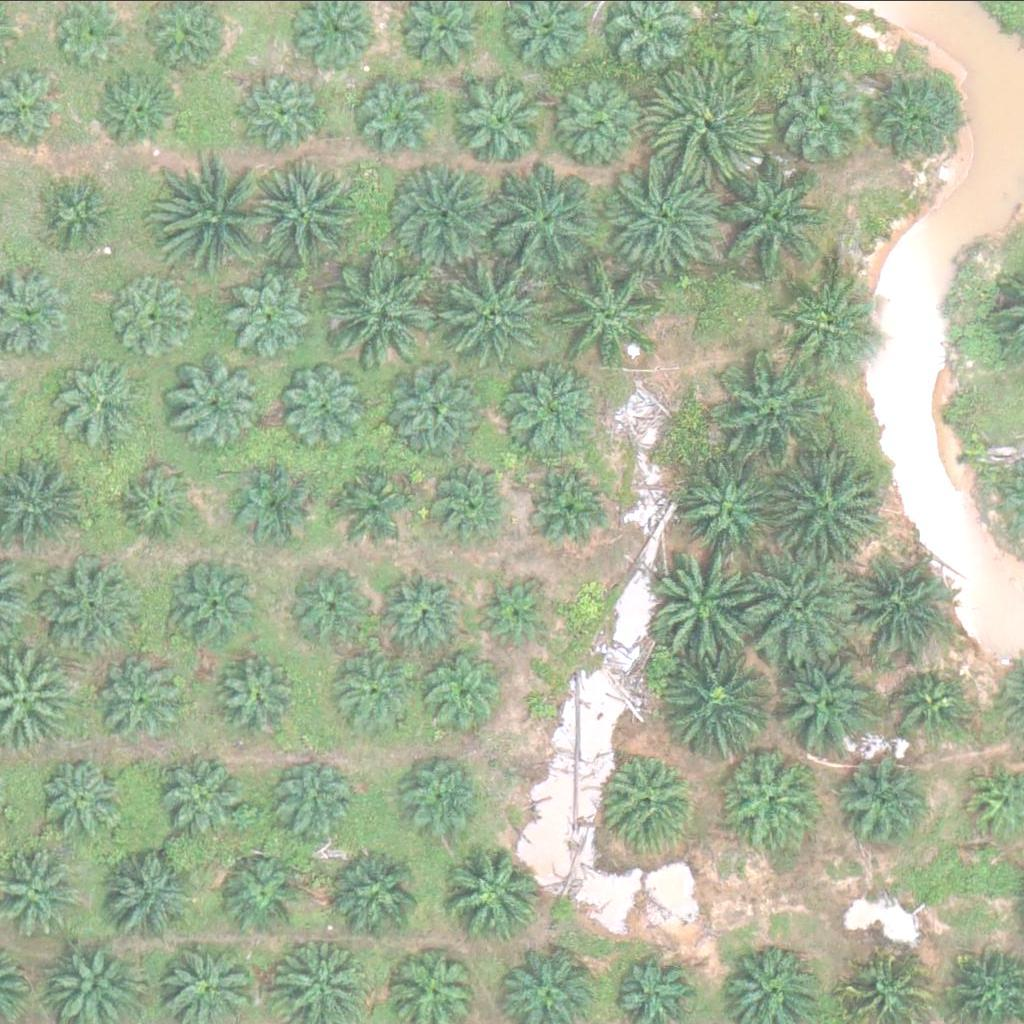Kelapa_Sawit: (770, 453, 884, 566), (385, 164, 499, 277), (649, 65, 762, 178), (162, 157, 275, 270), (483, 160, 596, 273), (666, 646, 779, 759), (610, 154, 724, 266), (712, 165, 825, 277), (712, 354, 825, 466), (745, 546, 858, 658), (255, 160, 368, 272), (549, 253, 662, 365), (440, 253, 553, 365), (328, 257, 441, 369), (649, 547, 762, 659), (775, 658, 876, 758), (395, 360, 496, 460), (41, 559, 142, 659), (676, 459, 777, 559), (99, 840, 200, 940), (331, 844, 432, 944), (447, 843, 548, 943), (864, 67, 964, 167), (785, 270, 885, 370), (850, 560, 950, 660), (718, 747, 818, 847), (548, 67, 648, 167), (452, 63, 552, 163), (501, 361, 601, 461), (603, 749, 703, 849), (771, 75, 859, 163), (835, 762, 923, 850), (38, 176, 126, 264), (355, 69, 443, 157), (181, 360, 269, 448), (282, 360, 370, 448), (34, 757, 122, 845), (162, 753, 250, 841), (264, 760, 352, 848), (212, 658, 300, 746), (167, 560, 255, 648), (530, 461, 618, 549), (113, 459, 201, 547), (114, 270, 202, 358), (93, 64, 181, 151), (241, 71, 329, 158), (399, 754, 487, 841), (416, 644, 504, 731), (331, 648, 419, 735), (95, 657, 183, 744), (292, 563, 380, 650), (376, 562, 464, 649), (420, 464, 508, 551), (323, 456, 411, 543), (226, 464, 314, 551), (227, 272, 315, 359), (58, 358, 146, 445), (217, 849, 305, 936), (473, 573, 549, 648), (892, 668, 967, 743)
